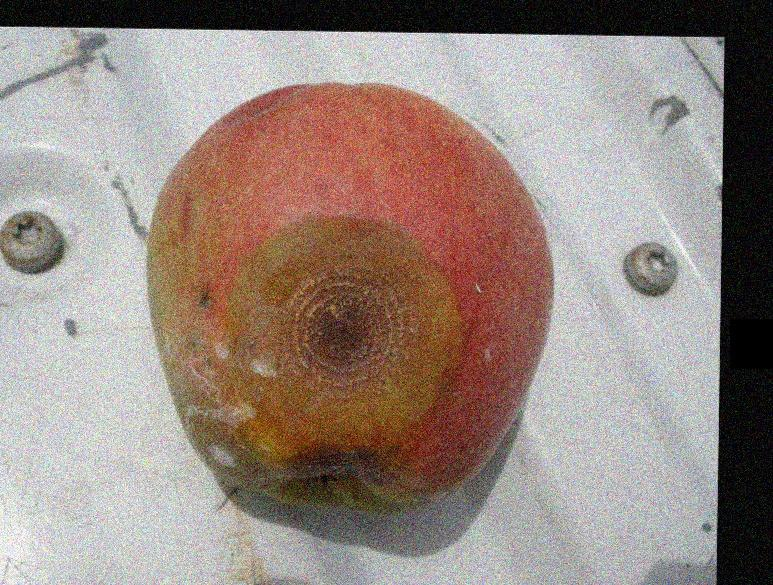rotten apple: (143, 79, 554, 522)
